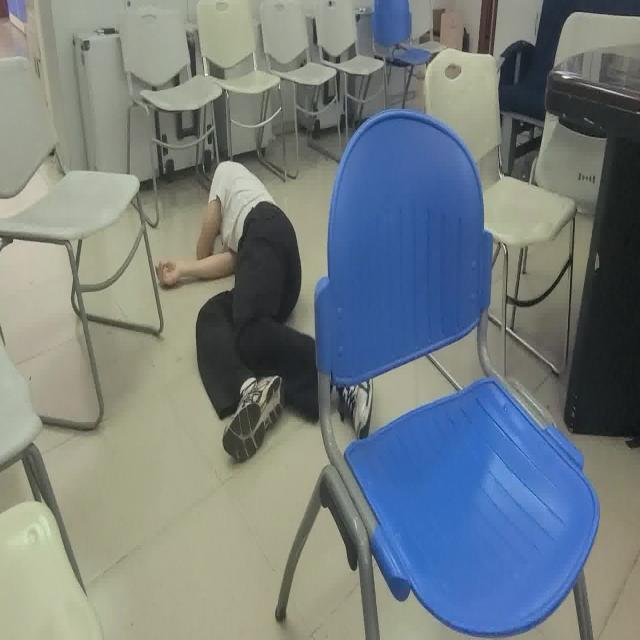Fall-Detected: (152, 157, 374, 465)
